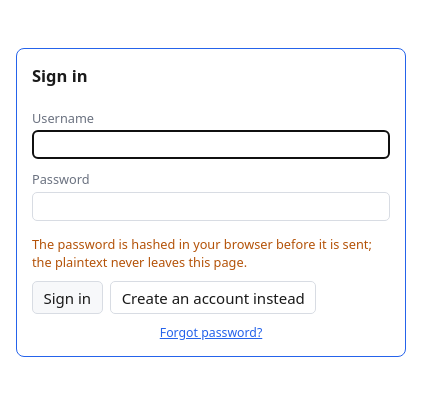
Test case: AuthScreen › surfaces the server error when the username does not exist
The width and height of the screenshot is (423, 407).
Click the button "Forgot password?". click: (211, 333)
box: [32,324,390,341]
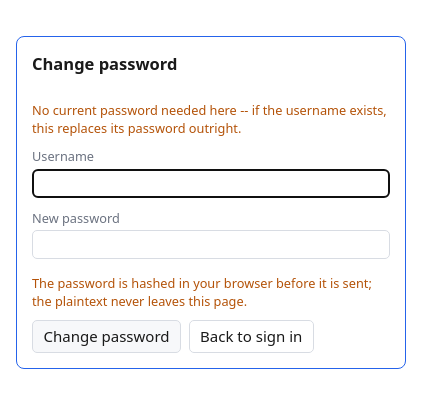
Type "nobody" into the field labelled "Username". click: (211, 184)
box: [32,169,390,198]
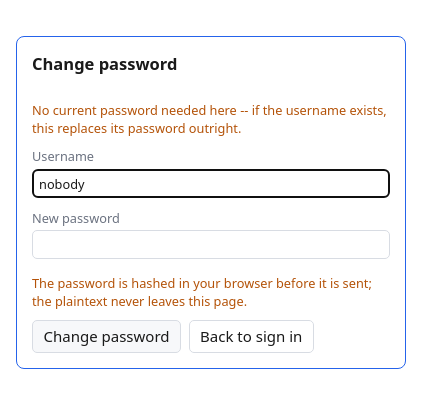
Type "a new password" into the password field labelled "New password". click: (211, 245)
box: [32,230,390,259]
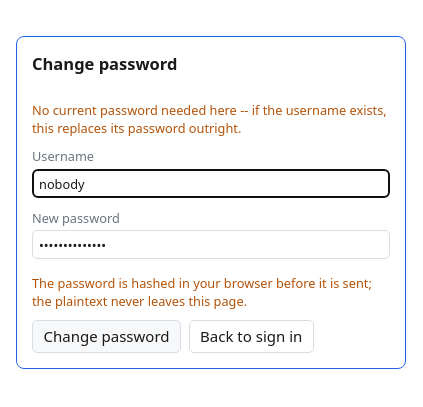
Click the button "Change password". click: (106, 336)
box: [32,320,181,353]
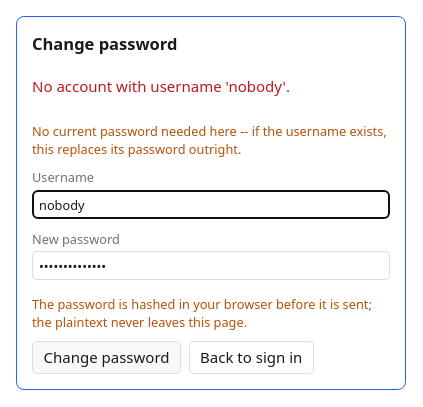
Expected: the heading "Change password" is shown, [32,32,177,54]
Expected: the message reads "No account with username 'nobody'.", [32,76,290,96]
